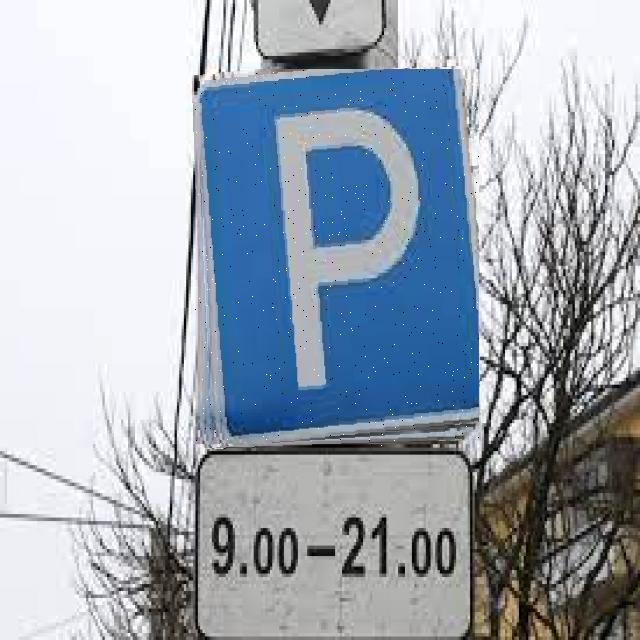parking: (195, 69, 479, 447)
